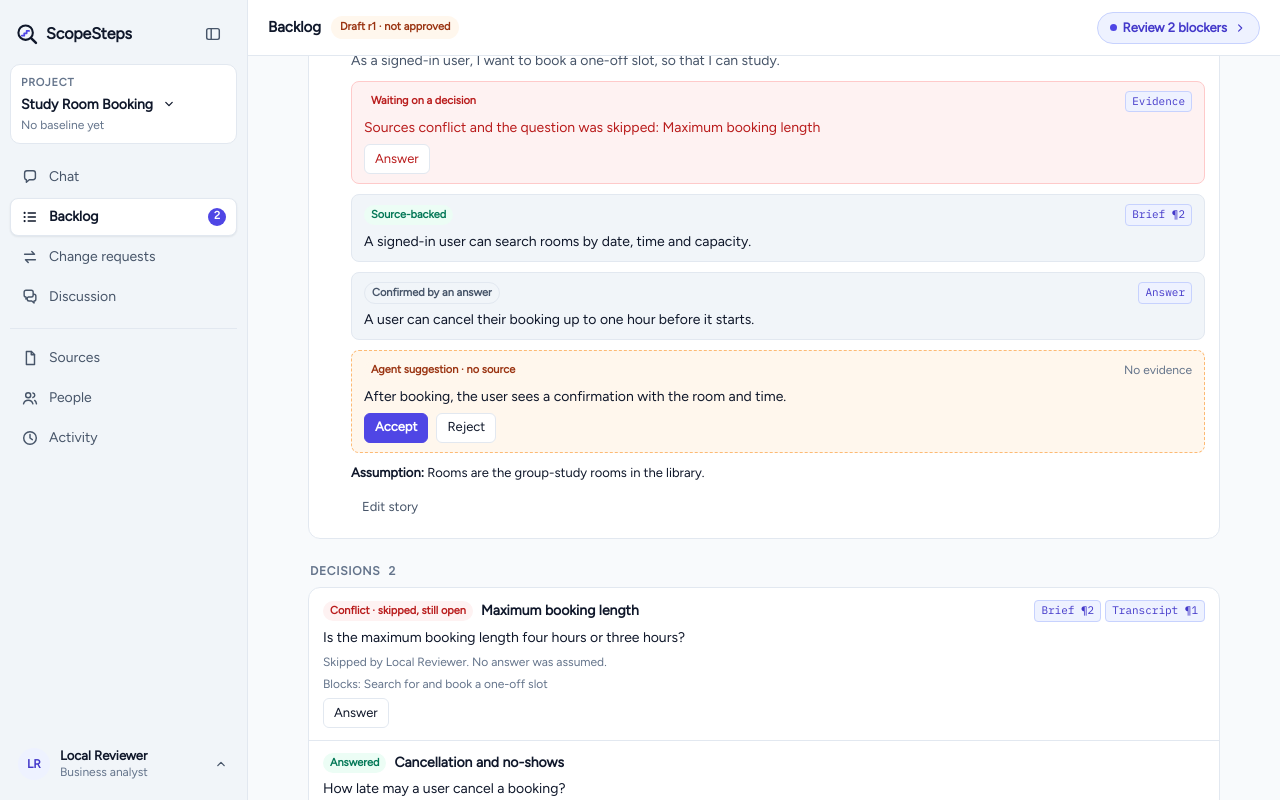
Test case: Editing a draft › accepts a suggestion, then rejects and restores another, sending only its status
This screenshot has width=1280, height=800.
(page scrolled)
Click the button "Reject" at [466, 428], box [436,413,496,443]
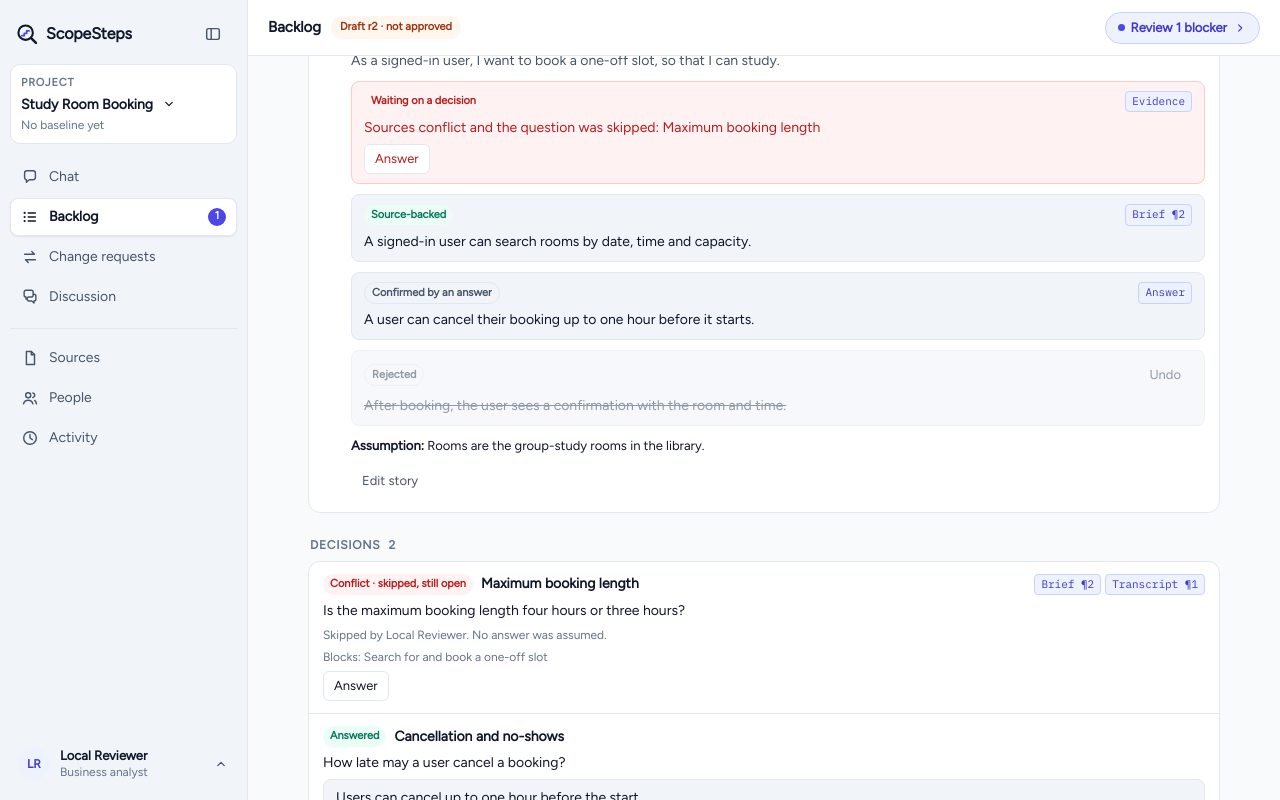
Expected: the text "Rejected" is shown, [364,364,424,386]
Click the button "Undo" at [1165, 375], box [1138,360,1192,390]
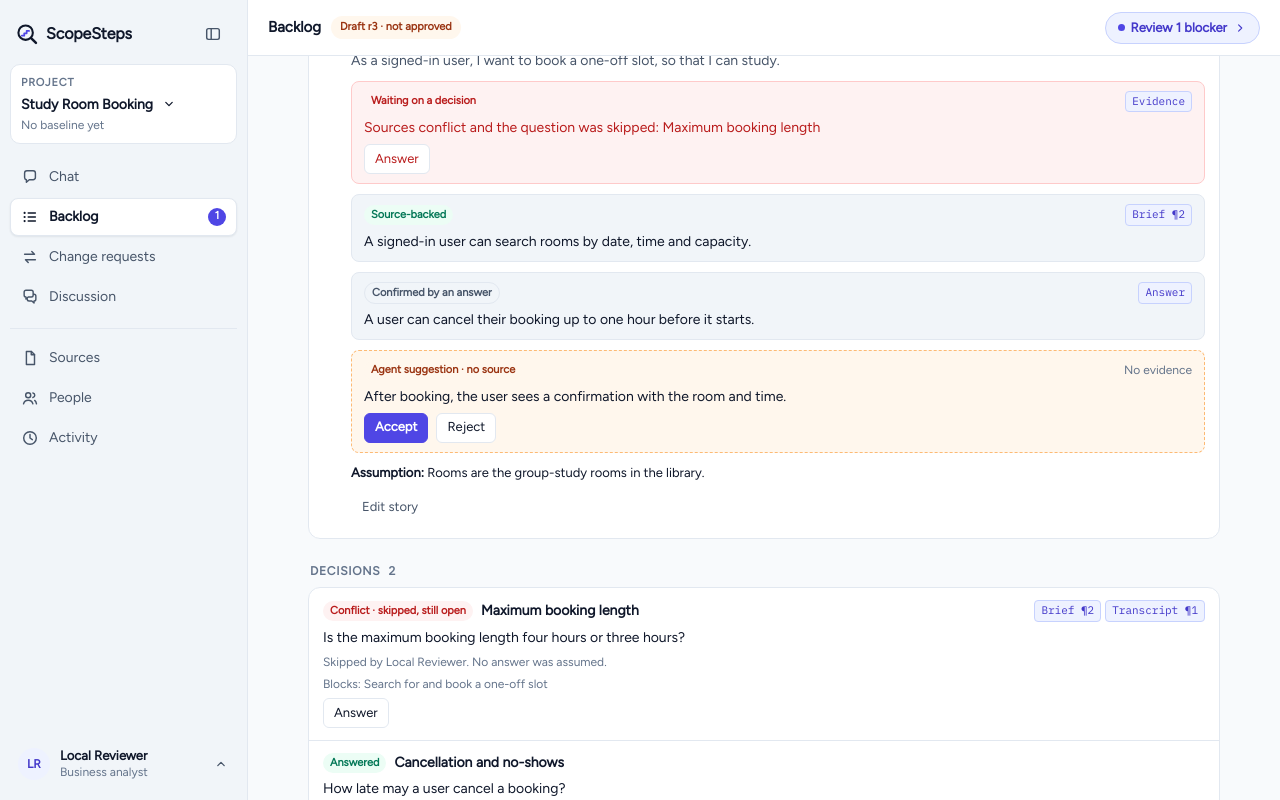
Expected: the text "Agent suggestion · no source" is shown, [364,360,522,381]
Click the button "Accept" at [396, 428], box [364,413,428,443]
(page scrolled)
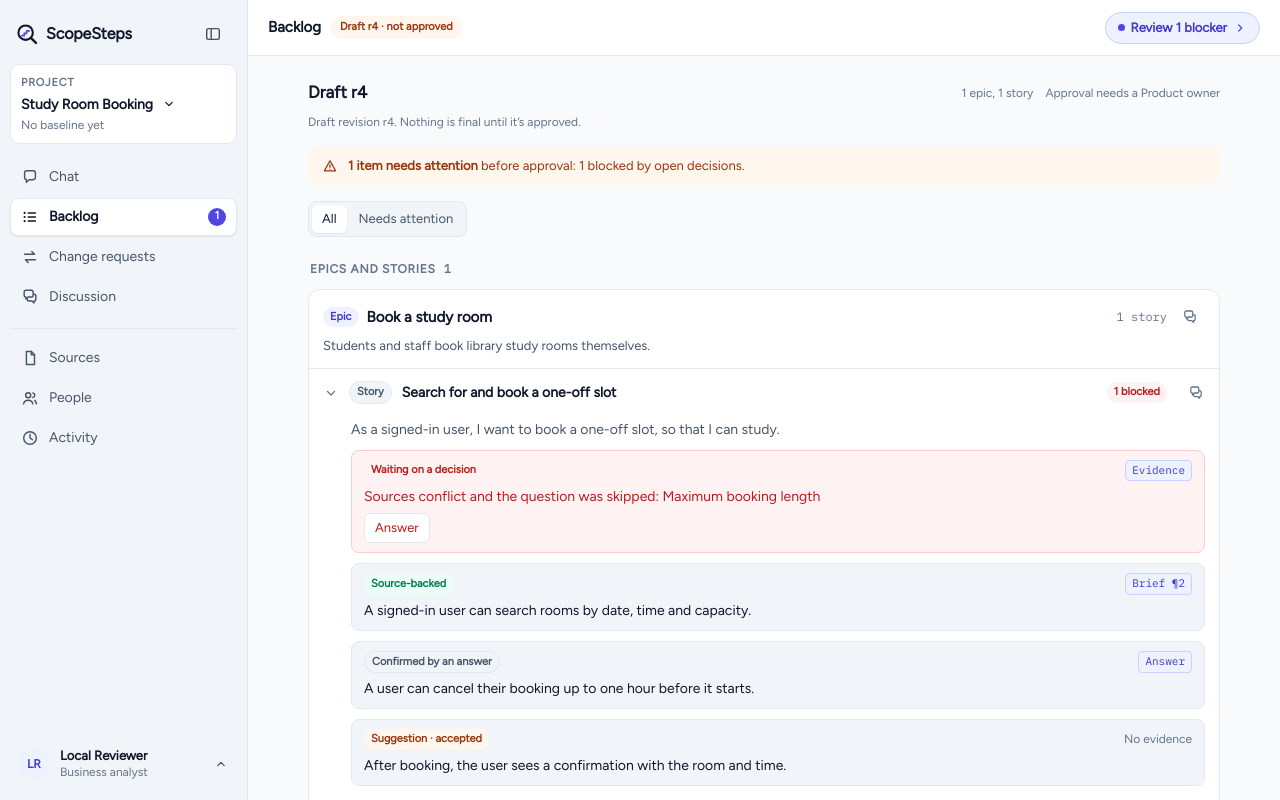
Expected: the text "Suggestion · accepted" is shown, [364,729,489,750]
Expected: the message shows "1 item needs attention", [308,146,1220,185]
